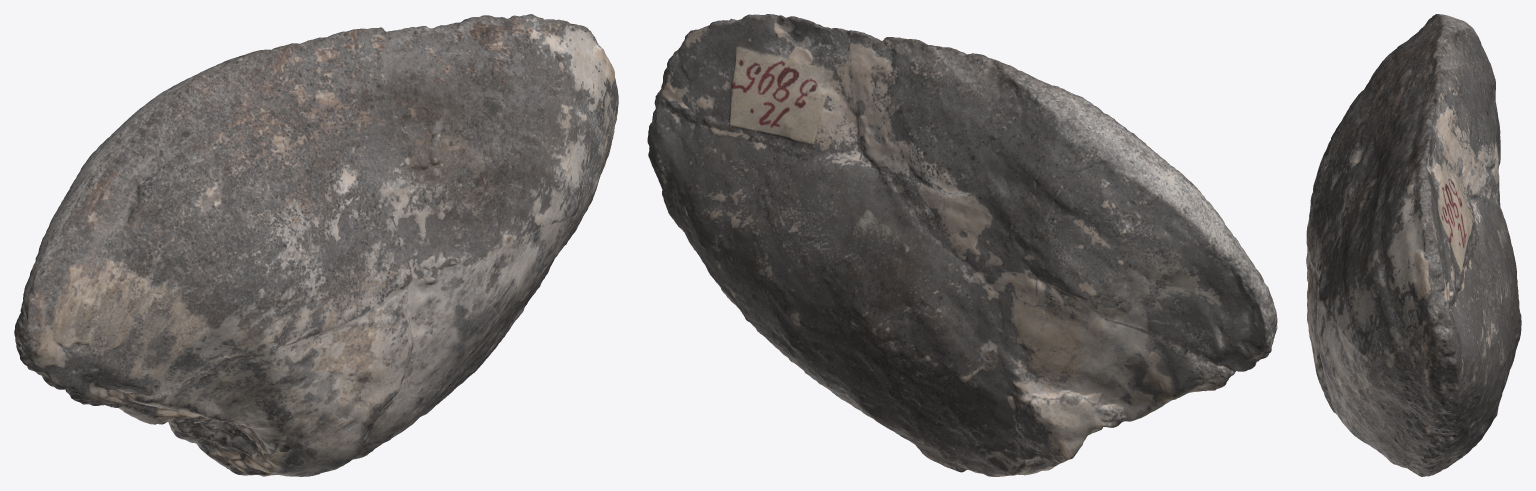
File: EWS0004004.glb
3 views of the same model, side by side, from view 1: azimuth 30°, elevation 25°; view 2: azimuth 150°, elevation 25°; view 3: azimuth 270°, elevation 25° (orthographic). The views are drawn at different scales.
Visible parts, largest first — view 1: input; view 2: input; view 3: input.
Boxes of the visible parts, box(x1,y1,x2,y2) form: input: box(14, 14, 618, 476); input: box(647, 14, 1277, 476); input: box(1306, 14, 1521, 476).
Size of the model in its own units: 0.0589 by 0.0388 by 0.0187.
Materials: 1 (1 with a texture image).
